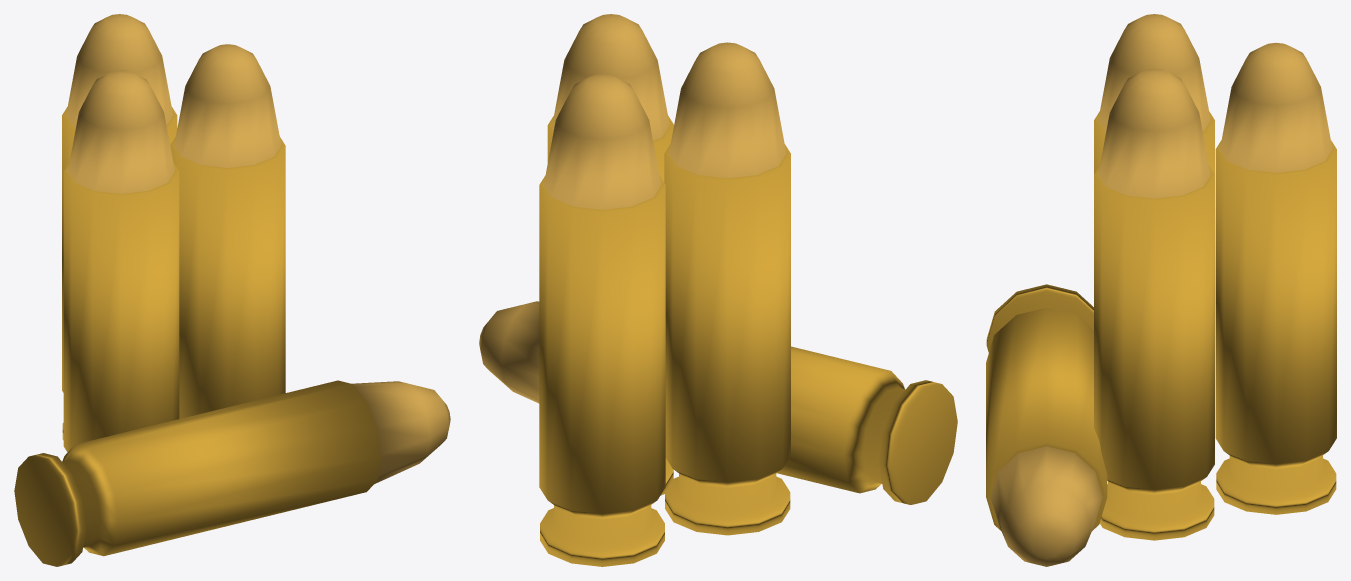
Rendered from pickup_bullet.fbx.
3 renders of one model, left to right at view 1: azimuth 30°, elevation 25°; view 2: azimuth 150°, elevation 25°; view 3: azimuth 270°, elevation 25°, orthographic. The views are drawn at different scales.
Visible parts, largest first — view 1: Cylinder.003, Cylinder.001, Cylinder, Cylinder.002; view 2: Cylinder.002, Cylinder.001, Cylinder.003, Cylinder; view 3: Cylinder.002, Cylinder, Cylinder.003, Cylinder.001.
Boxes of the visible parts, x1,y1,x2,y2 form: Cylinder.003: (14,380,450,566); Cylinder.001: (63,70,179,452); Cylinder: (170,44,285,418); Cylinder.002: (62,14,177,440); Cylinder.002: (539,74,665,566); Cylinder.001: (664,42,790,535); Cylinder.003: (479,301,957,504); Cylinder: (547,14,673,495); Cylinder.002: (1215,42,1336,514); Cylinder: (1094,68,1214,540); Cylinder.003: (986,284,1107,566); Cylinder.001: (1094,14,1214,174).
Bounding box in the file's own units: 81.47 × 81.47 × 58.54.
